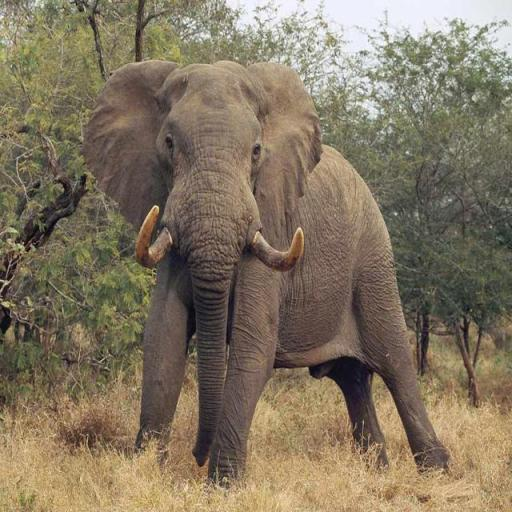Elephant: (81, 58, 452, 490)
